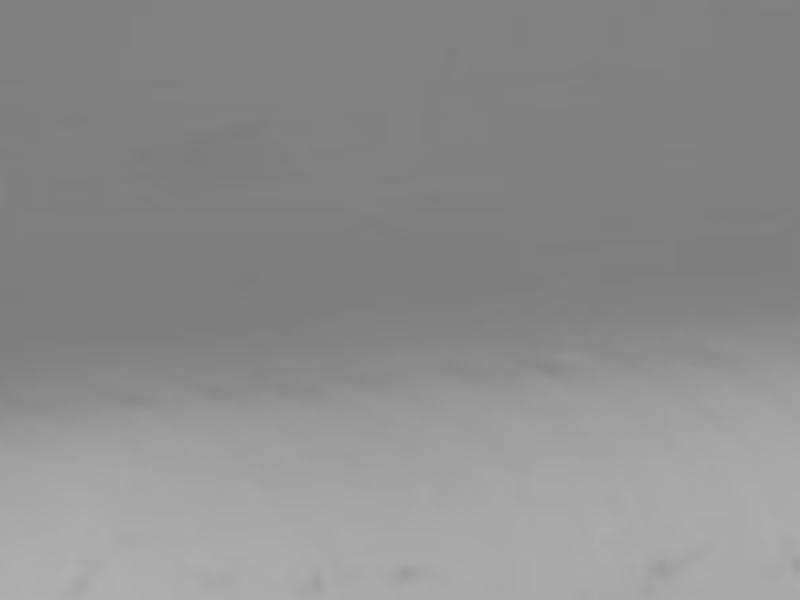defect: (637, 561, 677, 586), (388, 562, 424, 586), (61, 574, 96, 596), (306, 566, 331, 594)
